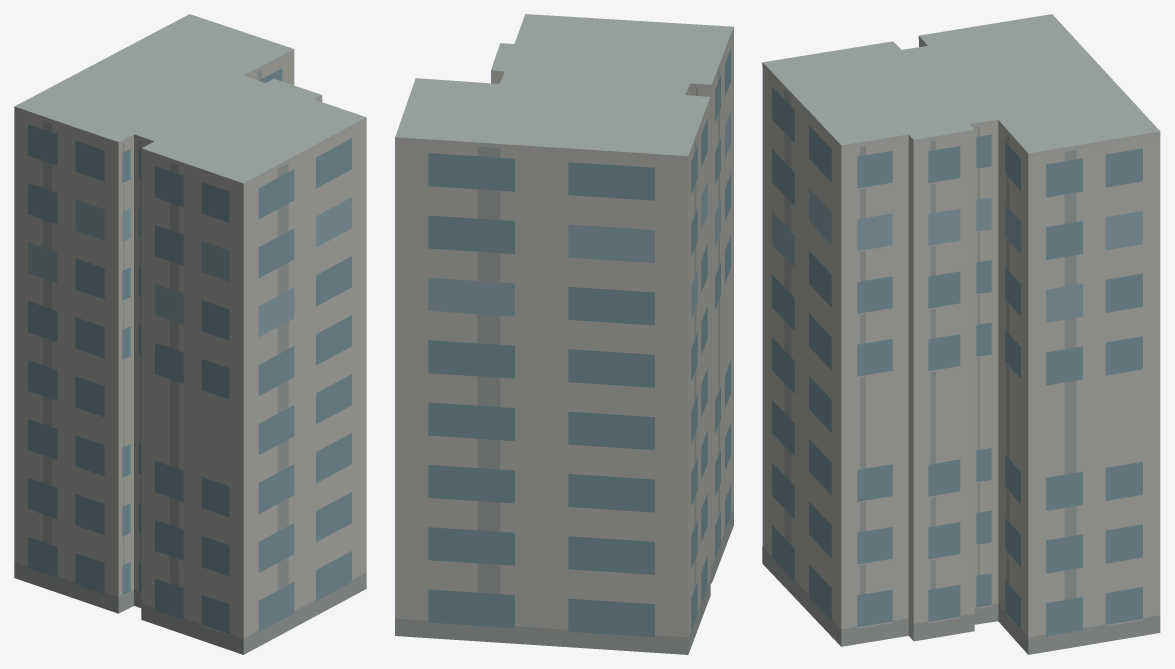
The model's file is survey-upis-32589860.glb.
3 views of the same model, side by side, from view 1: azimuth 30°, elevation 25°; view 2: azimuth 150°, elevation 25°; view 3: azimuth 270°, elevation 25° (orthographic). The views are drawn at different scales.
Parts seen in each view (by area): view 1: survey-upis-32589860.tmp; view 2: survey-upis-32589860.tmp; view 3: survey-upis-32589860.tmp.
Boxes of the visible parts, <box> form: survey-upis-32589860.tmp: <box>14,14,366,654</box>; survey-upis-32589860.tmp: <box>395,14,733,654</box>; survey-upis-32589860.tmp: <box>762,14,1160,654</box>.
Bounding box in the file's own units: 17.19 × 28.8 × 20.72.
